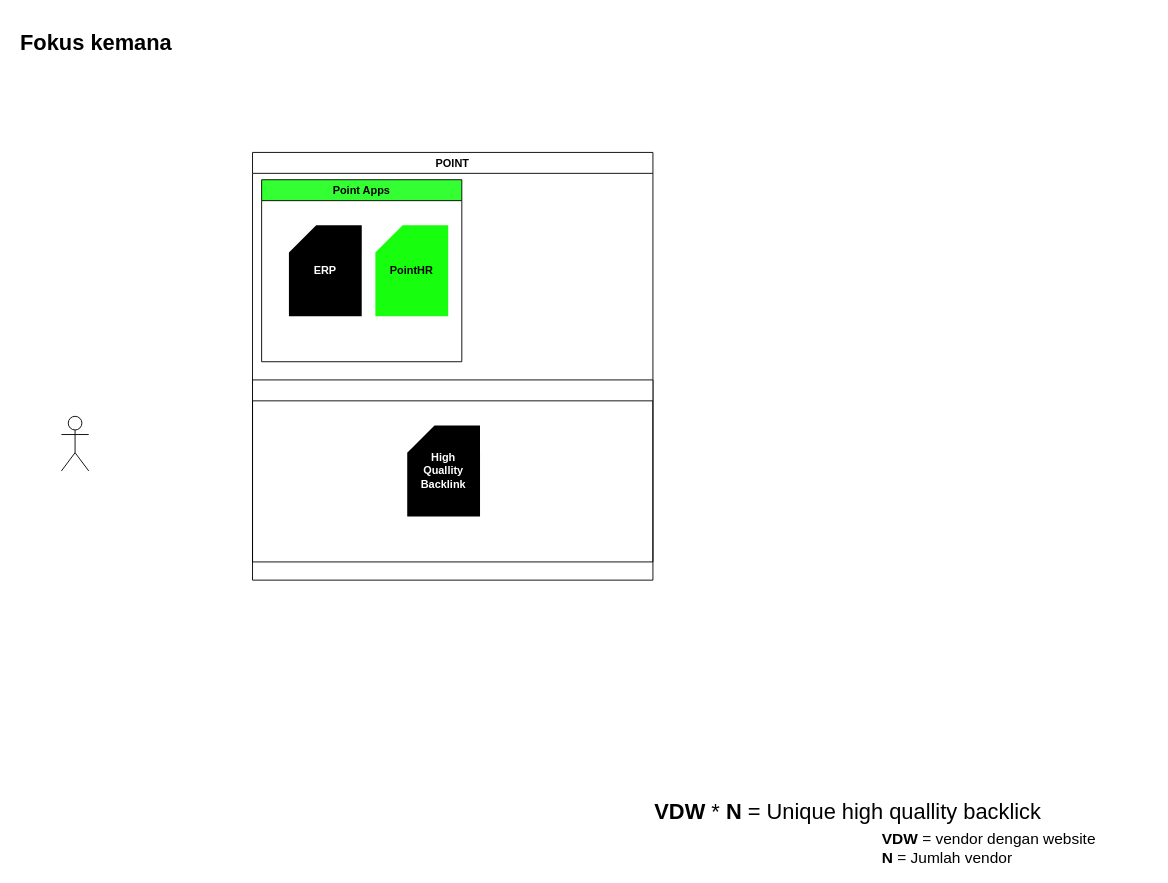
This 1168x883 diagram has some shape labels left out. The box of each missing label's shape, as (x1, y1, x2, y2) in pixels:
Connect: (252, 379, 653, 562)
Vendor dengan Website: (61, 415, 89, 471)
